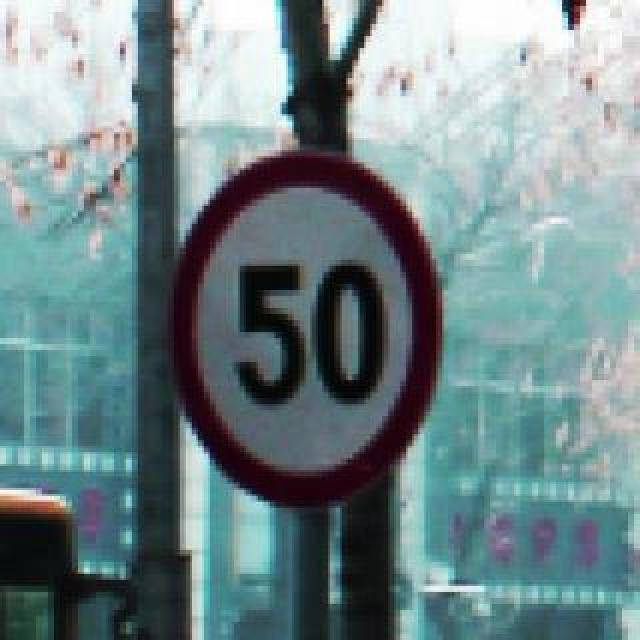50 kph: (168, 146, 436, 496)
